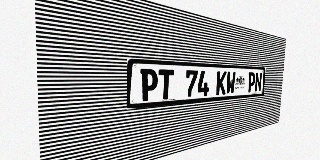4: (197, 70, 210, 97)
7: (184, 70, 198, 98)
K: (216, 71, 227, 95)
N: (254, 72, 262, 92)
P: (140, 69, 158, 101), (247, 72, 255, 93)
T: (158, 69, 174, 100)
W: (226, 71, 236, 94)
